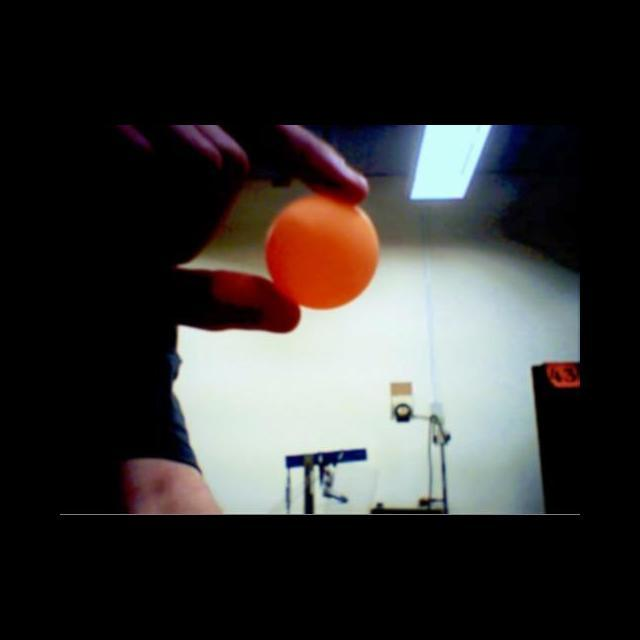ping-pong-ball: (262, 192, 379, 311)
